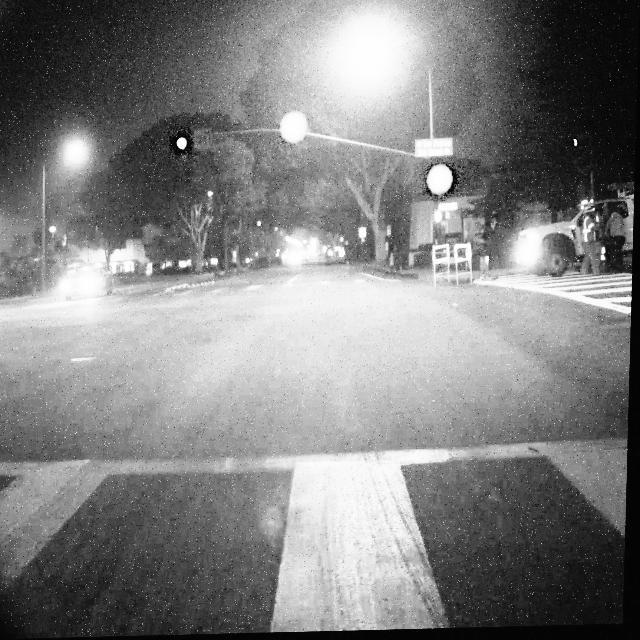Truck: (515, 181, 635, 281)
